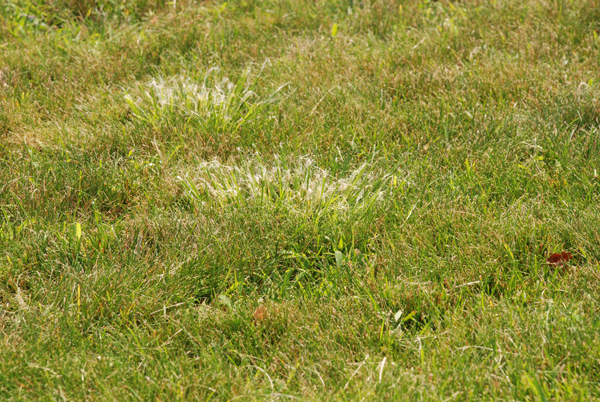grass: (1, 1, 600, 399)
